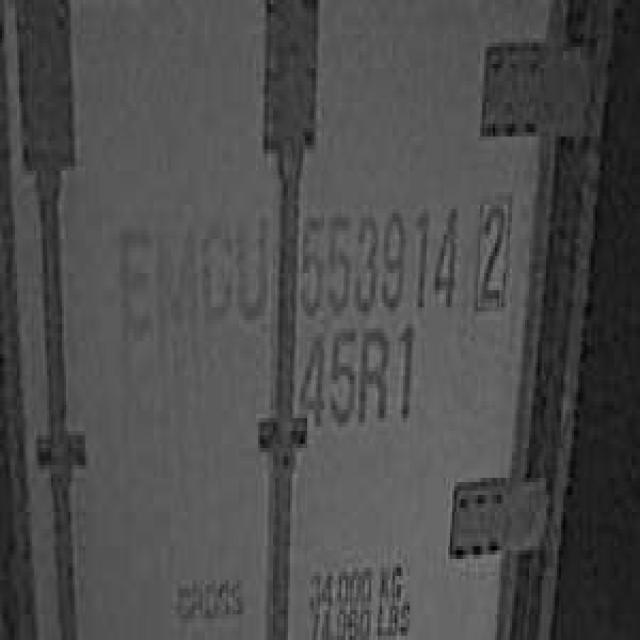dv: (471, 188, 518, 325)
owner: (107, 194, 276, 352)
serial: (294, 192, 463, 320)
size: (290, 320, 420, 439)
